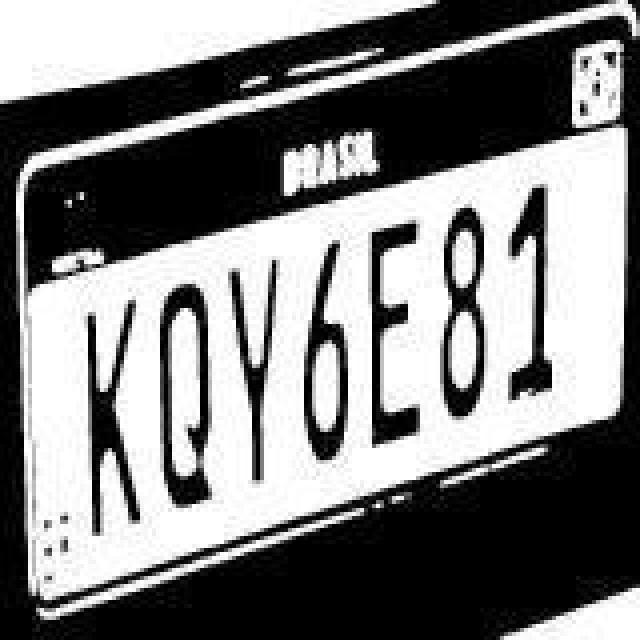1: (500, 178, 556, 414)
6: (294, 236, 354, 476)
8: (436, 204, 492, 436)
E: (364, 214, 428, 458)
K: (68, 294, 140, 554)
Q: (154, 278, 214, 522)
Y: (220, 254, 284, 498)
